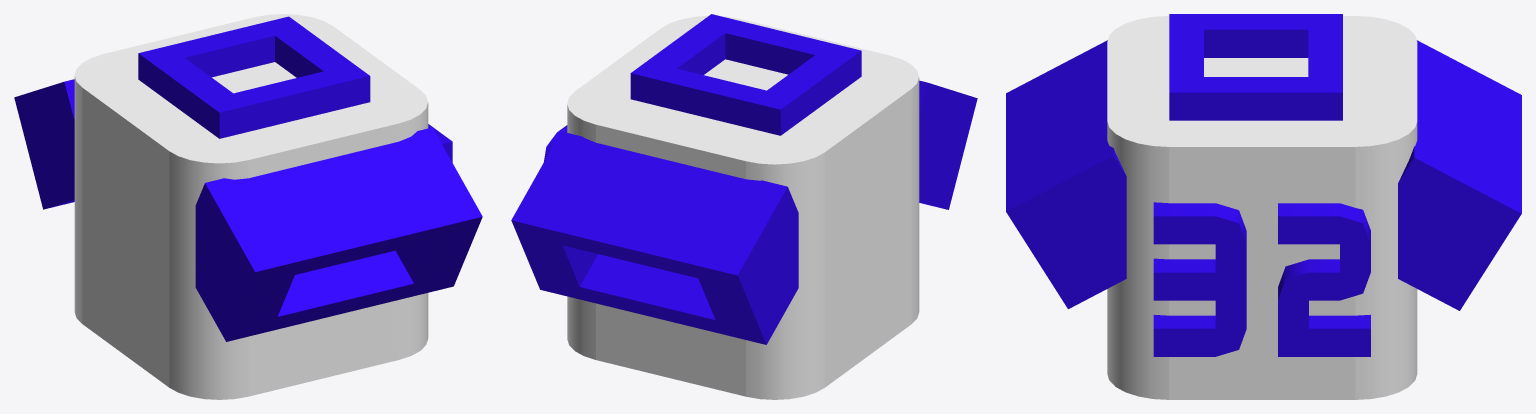
The model's file is pitchers jersey.glb.
3 renders of one model, left to right at view 1: azimuth 30°, elevation 25°; view 2: azimuth 150°, elevation 25°; view 3: azimuth 270°, elevation 25°, orthographic. The views are drawn at different scales.
Visible parts, largest first — view 1: mergedBlocks(Clone); view 2: mergedBlocks(Clone); view 3: mergedBlocks(Clone).
Boxes of the visible parts, left/top/right/bottom form: mergedBlocks(Clone): left=14, top=14, right=482, bottom=399; mergedBlocks(Clone): left=511, top=14, right=977, bottom=399; mergedBlocks(Clone): left=1006, top=14, right=1521, bottom=399.
Size of the model in its own units: 1.1 by 1 by 1.66.
